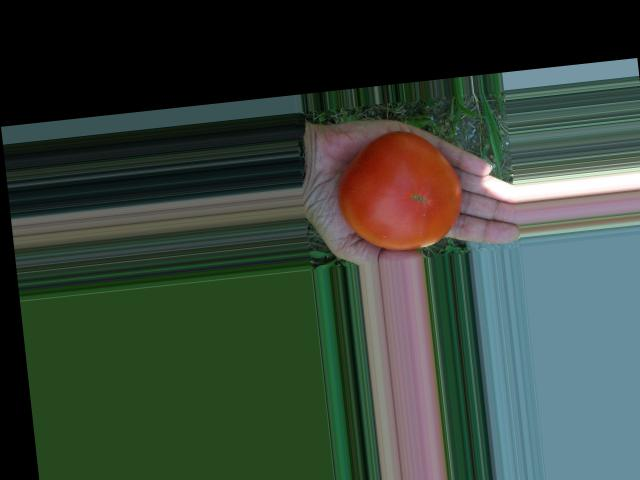tomato: (333, 124, 467, 256)
